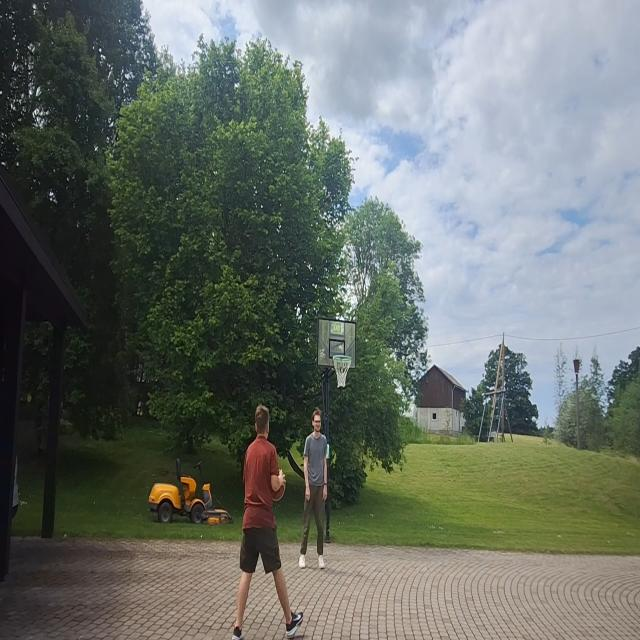ball: (270, 476, 286, 504)
basket: (332, 351, 353, 390)
player: (233, 403, 308, 640), (300, 406, 328, 571)
